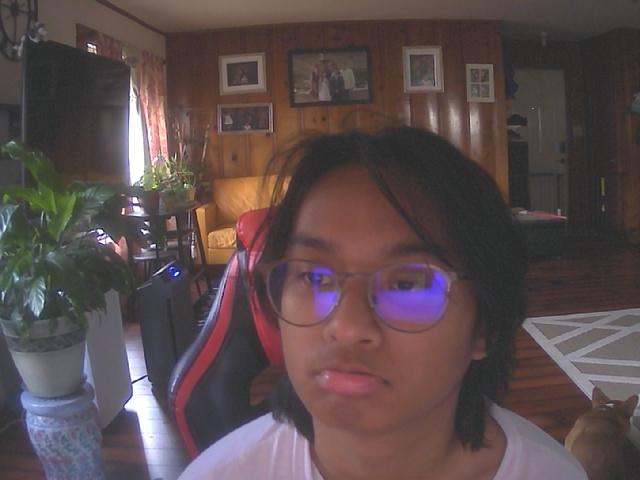sad: (252, 129, 508, 434)
